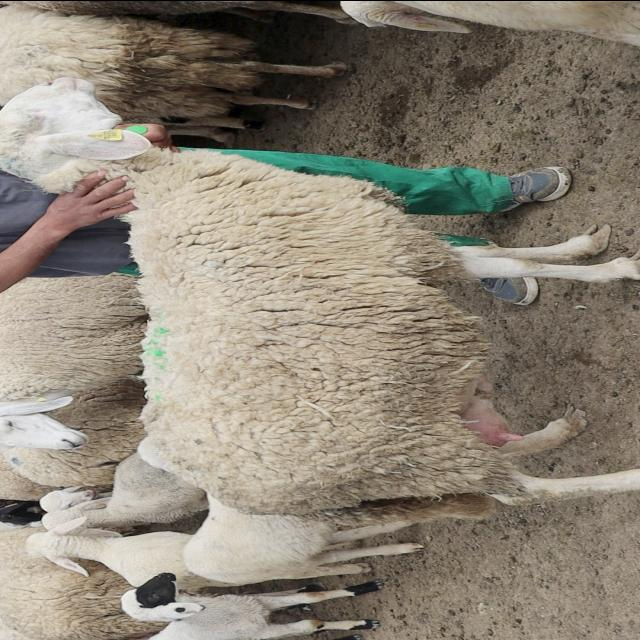Score_2: (0, 77, 639, 524)
